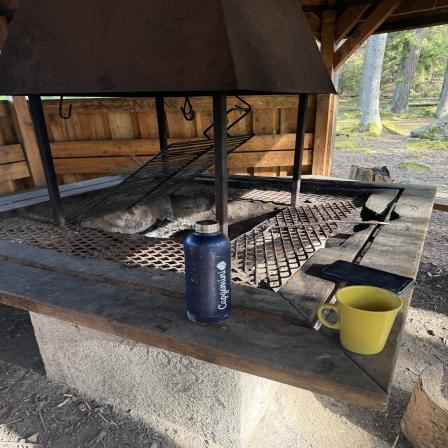blue_bottle: (183, 219, 233, 324)
phone: (319, 260, 418, 294)
yellow_cup: (319, 285, 403, 355)
